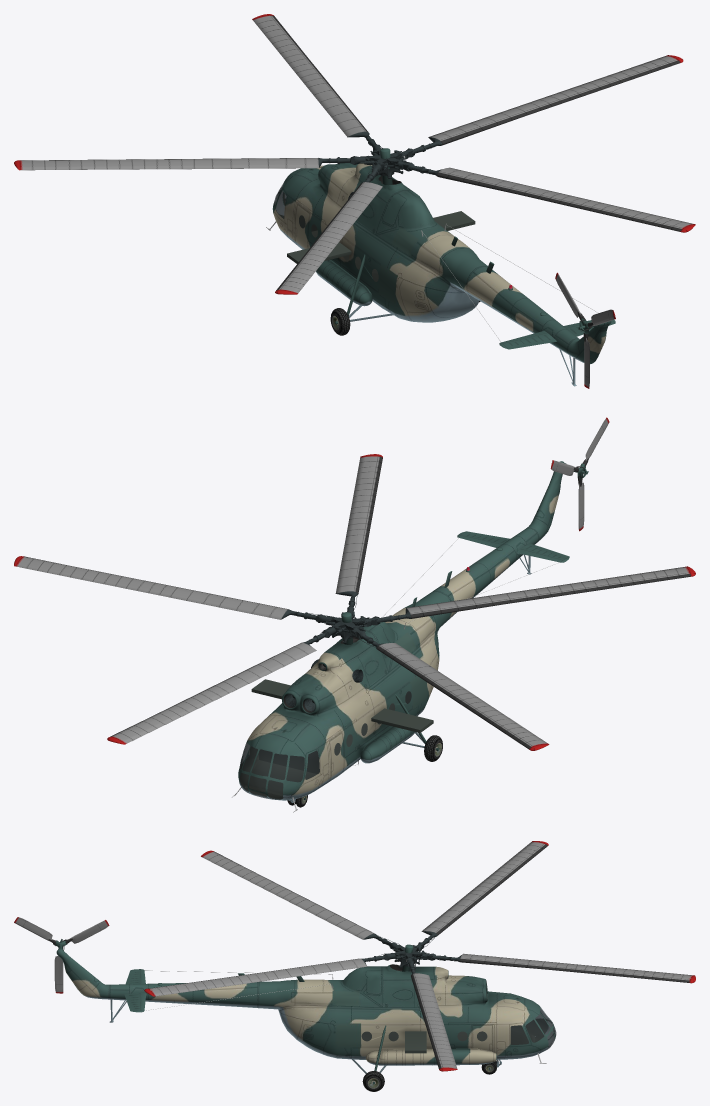
3 renders of one model, top to bottom at view 1: azimuth 30°, elevation 25°; view 2: azimuth 150°, elevation 25°; view 3: azimuth 270°, elevation 25°, orthographic. The views are drawn at different scales.
Visible parts, largest first — view 1: body|sp_03-FACES, rotor|Obj_313-FACES, rotor|Obj_309-FACES, rotor|Obj_311-FACES, rotor|Obj_286-FACES, rotor|Obj_315-FACES, rotor|Obj_285-FACES, body|bak01-FACES, body|Obj_323-FACES; view 2: body|sp_03-FACES, rotor|Obj_309-FACES, rotor|Obj_315-FACES, rotor|Obj_286-FACES, rotor|Obj_311-FACES, rotor|Obj_313-FACES, body|glass, body|kabina-FACES, rotor|Obj_285-FACES, body|bak01-FACES, body|default#truss; view 3: body|sp_03-FACES, rotor|Obj_315-FACES, rotor|Obj_286-FACES, rotor|Obj_311-FACES, rotor|Obj_313-FACES, rotor|Obj_309-FACES, body|bak-FACES, body|glass, rotor|Obj_285-FACES, body|kabina-FACES, body|default#truss.
Boxes of the visible parts, <box> form: body|sp_03-FACES: <box>272,163,611,364</box>; rotor|Obj_313-FACES: <box>14,158,318,170</box>; rotor|Obj_309-FACES: <box>428,55,683,145</box>; rotor|Obj_311-FACES: <box>252,14,368,136</box>; rotor|Obj_286-FACES: <box>436,167,695,232</box>; rotor|Obj_315-FACES: <box>275,182,382,294</box>; rotor|Obj_285-FACES: <box>318,131,442,182</box>; body|bak01-FACES: <box>316,260,372,306</box>; body|Obj_323-FACES: <box>499,330,556,349</box>; body|sp_03-FACES: <box>238,461,563,800</box>; rotor|Obj_309-FACES: <box>14,556,288,619</box>; rotor|Obj_315-FACES: <box>406,566,695,618</box>; rotor|Obj_286-FACES: <box>335,454,382,593</box>; rotor|Obj_311-FACES: <box>107,642,316,744</box>; rotor|Obj_313-FACES: <box>376,643,549,750</box>; body|glass: <box>239,691,411,799</box>; body|kabina-FACES: <box>240,691,411,799</box>; rotor|Obj_285-FACES: <box>281,591,411,648</box>; body|bak01-FACES: <box>360,726,415,763</box>; body|default#truss: <box>371,708,433,732</box>; body|sp_03-FACES: <box>56,949,555,1059</box>; rotor|Obj_315-FACES: <box>201,850,374,939</box>; rotor|Obj_286-FACES: <box>144,958,366,996</box>; rotor|Obj_311-FACES: <box>459,953,695,983</box>; rotor|Obj_313-FACES: <box>422,841,548,935</box>; rotor|Obj_309-FACES: <box>411,973,457,1071</box>; body|bak-FACES: <box>365,1048,496,1065</box>; body|glass: <box>361,1007,556,1050</box>; rotor|Obj_285-FACES: <box>361,931,461,974</box>; body|kabina-FACES: <box>361,1018,554,1046</box>; body|default#truss: <box>405,1031,426,1053</box>.
Size of the model in its own units: 20.2 by 5.97 by 24.96.
Materials: 88 (62 with a texture image).
